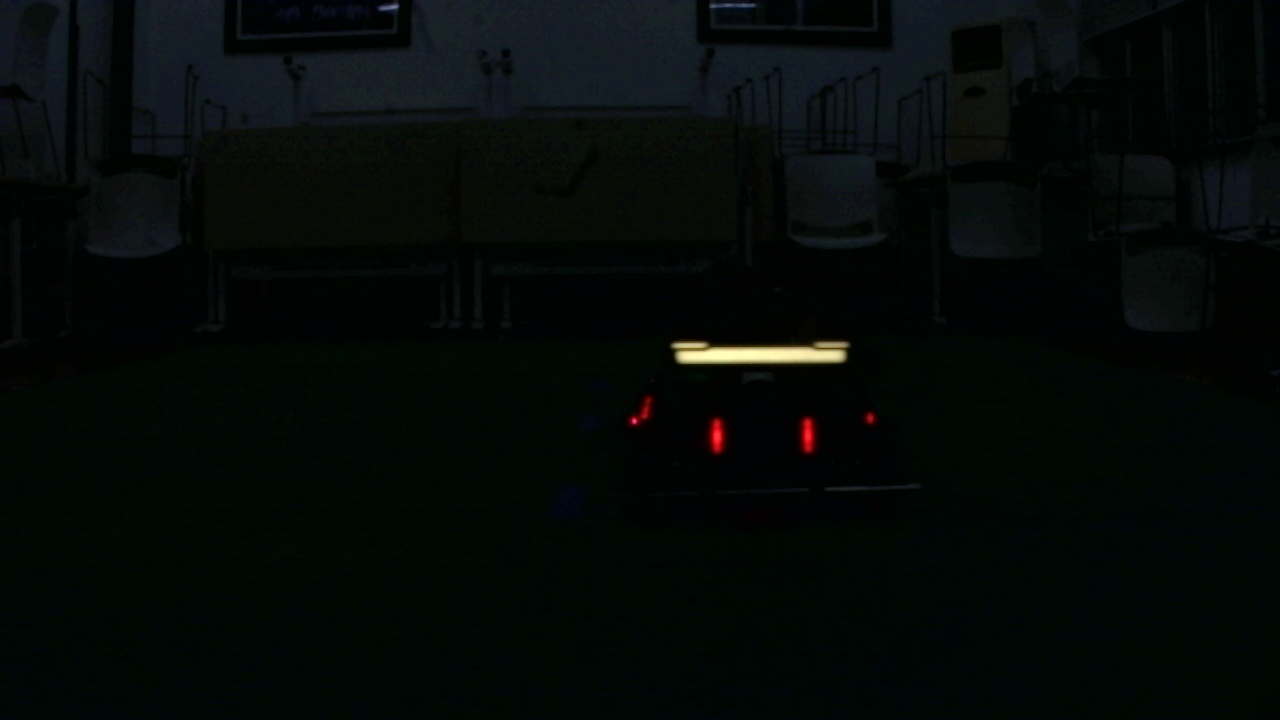lamp: (707, 411, 726, 460), (800, 411, 820, 455)
pair1: (711, 419, 816, 454)
